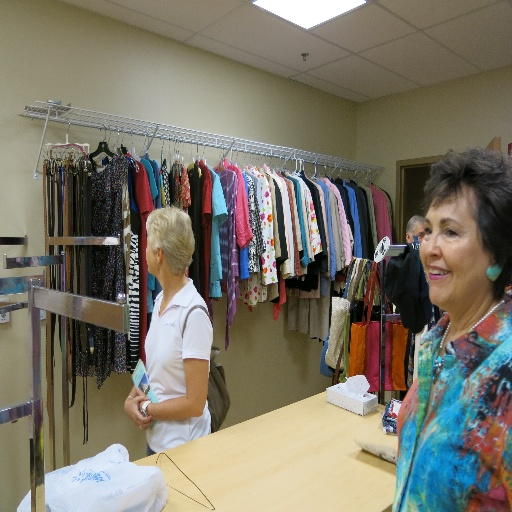hand: (124, 396, 152, 431), (135, 386, 146, 413)
